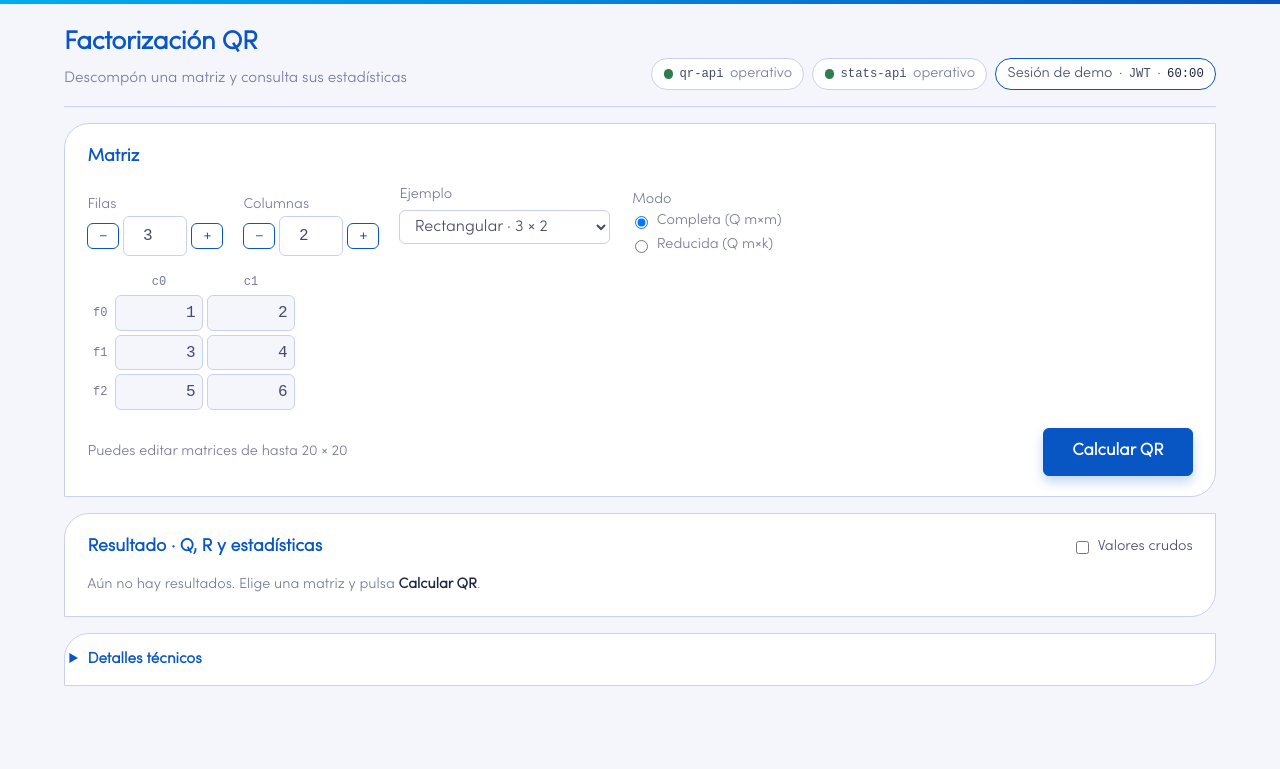
Test case: App › marks the results stale when only the mode changes
Click the button "Calcular QR": x=1118, y=452 left=1043, top=428, right=1193, bottom=476
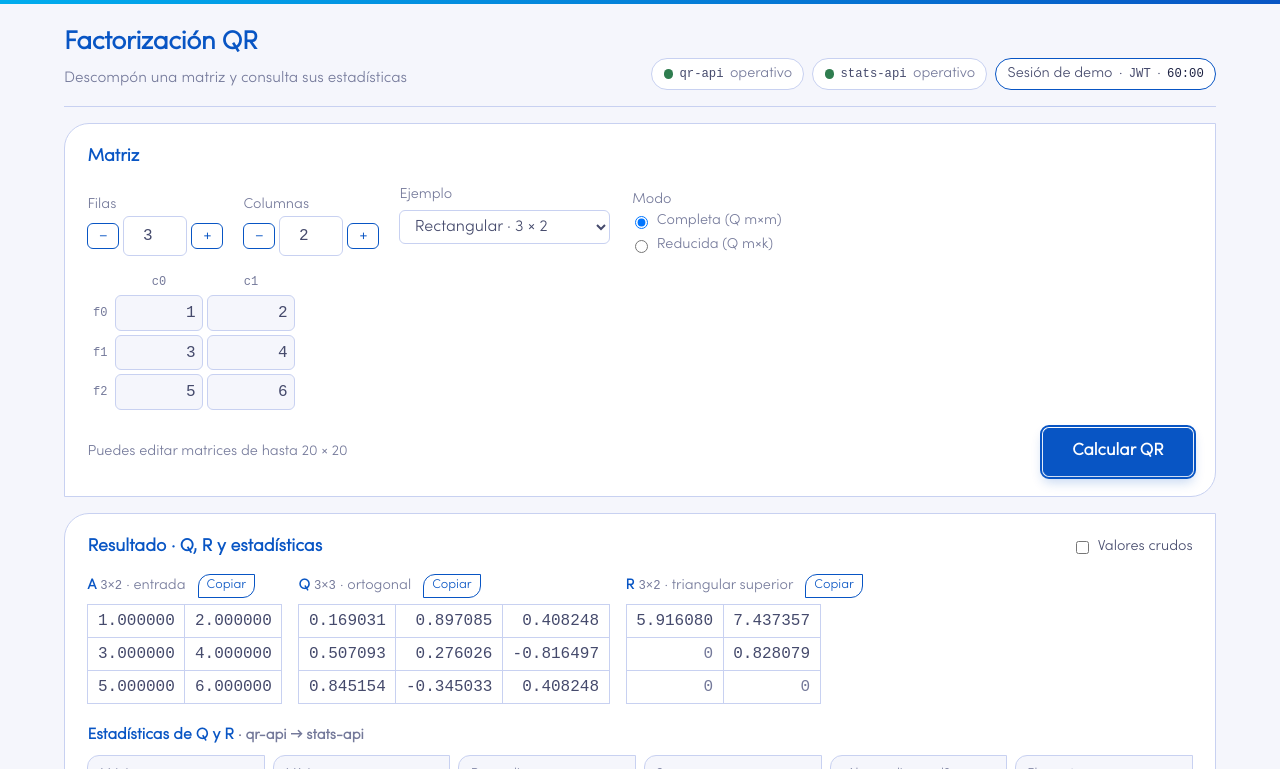
Click the radio button labelled "Reducida (Q m×k)": x=642, y=247 left=635, top=240, right=648, bottom=253
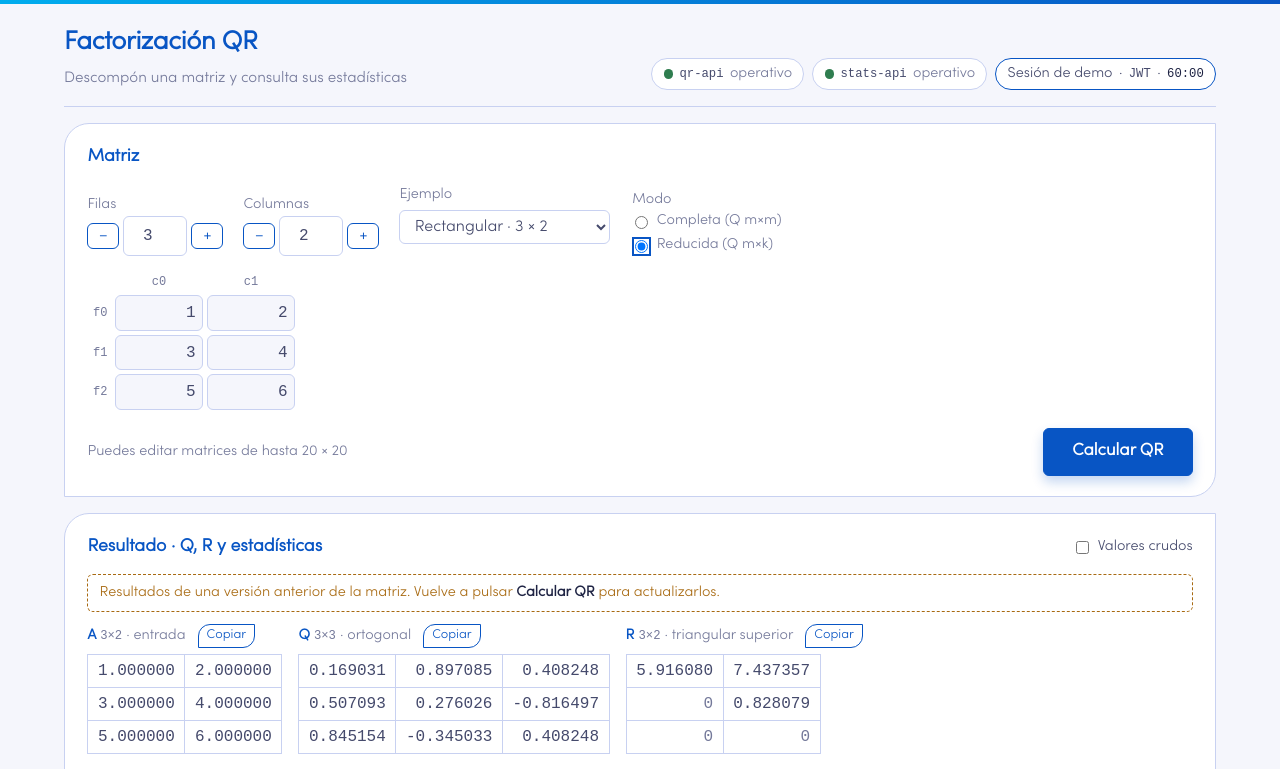
Expected: the text "versión anterior de la matriz" is shown, left=100, top=585, right=512, bottom=599
